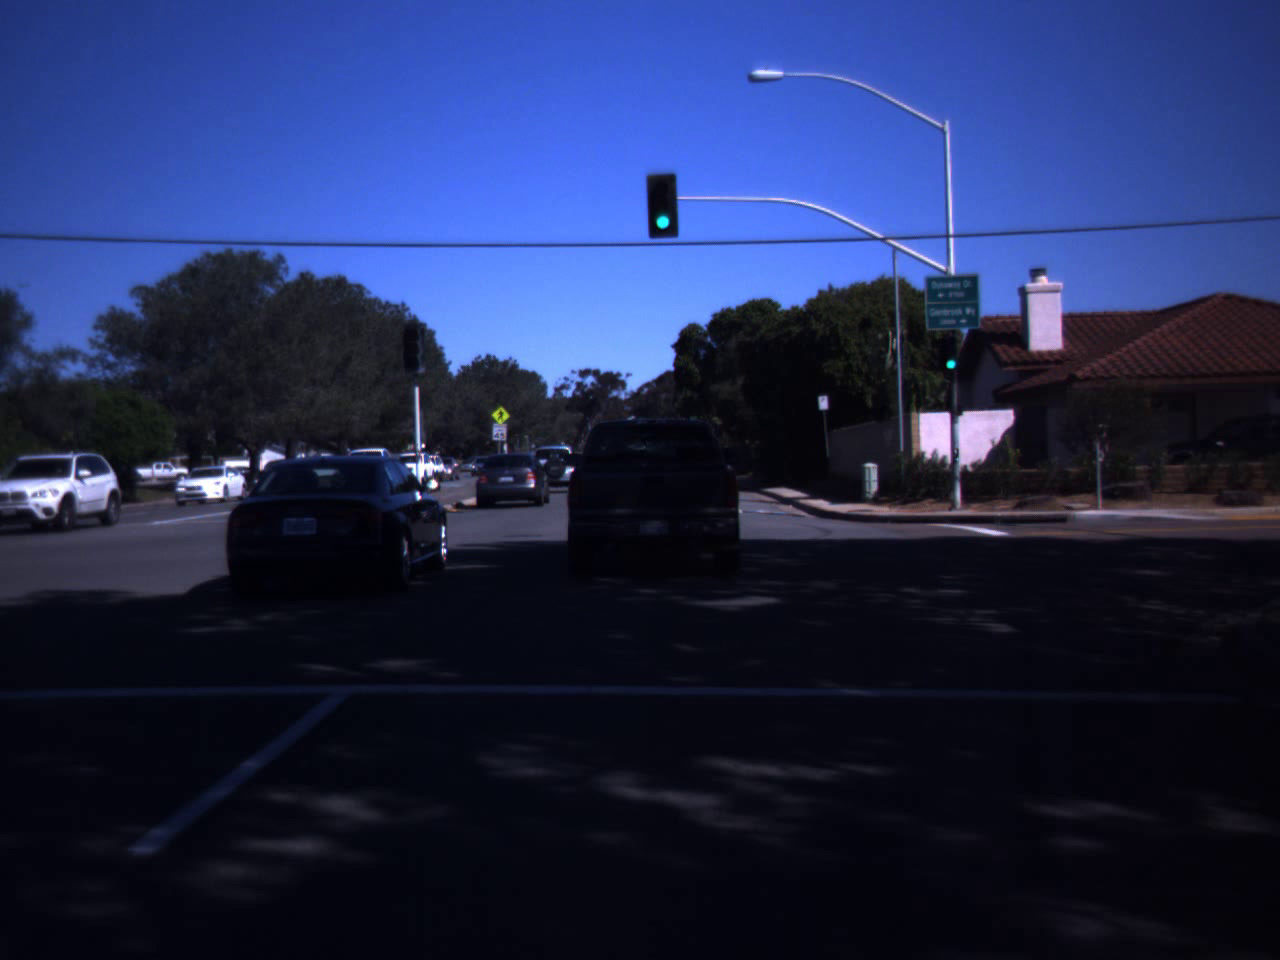go: (648, 176, 678, 231), (943, 336, 961, 371)
